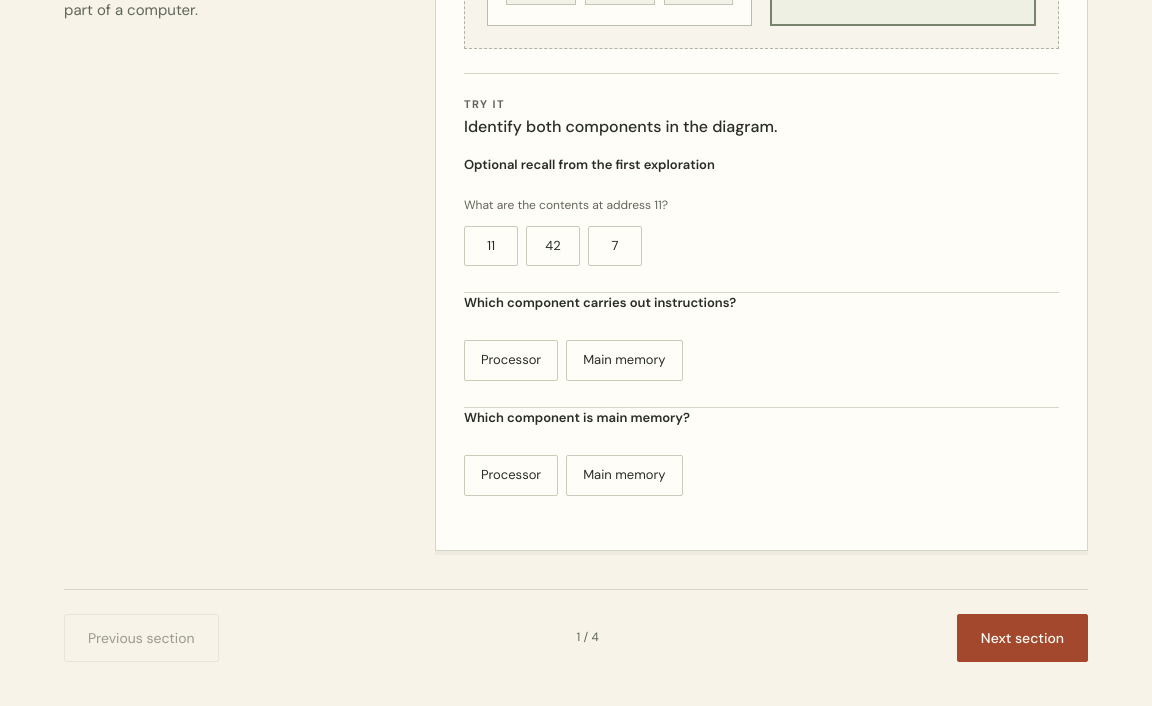
Scenario: component feedback waits for both identifications
The width and height of the screenshot is (1152, 706).
(page scrolled)
Click the 1st button "Processor".
click(511, 361)  # box [464, 340, 558, 381]
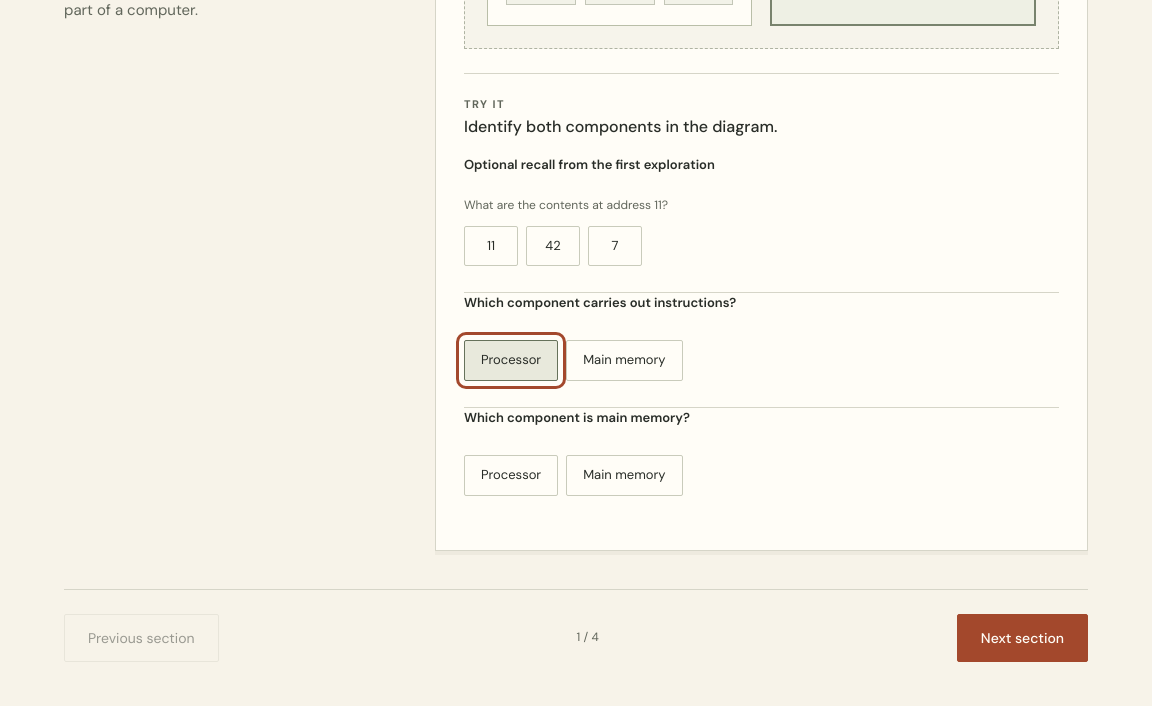
Click the button "Main memory" below "Which component is main memory?".
click(624, 475)  # box [566, 455, 682, 496]
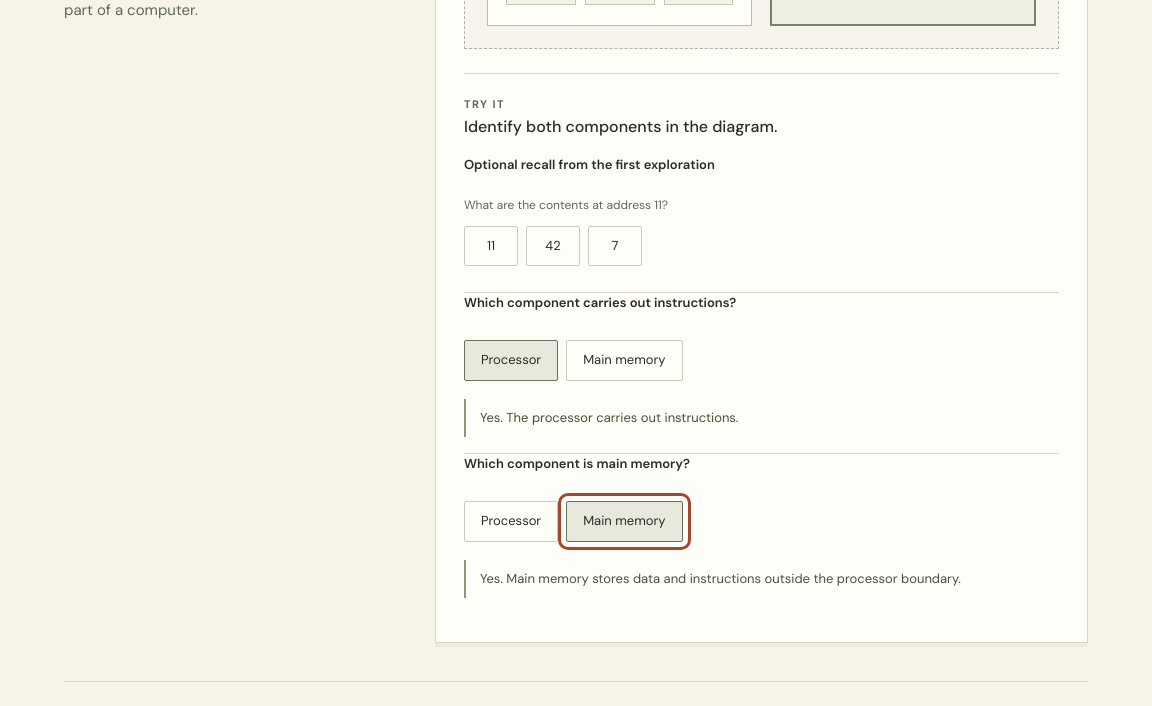
Check: the number of messages is 2, box [464, 399, 1059, 437]; [464, 560, 1059, 598]
